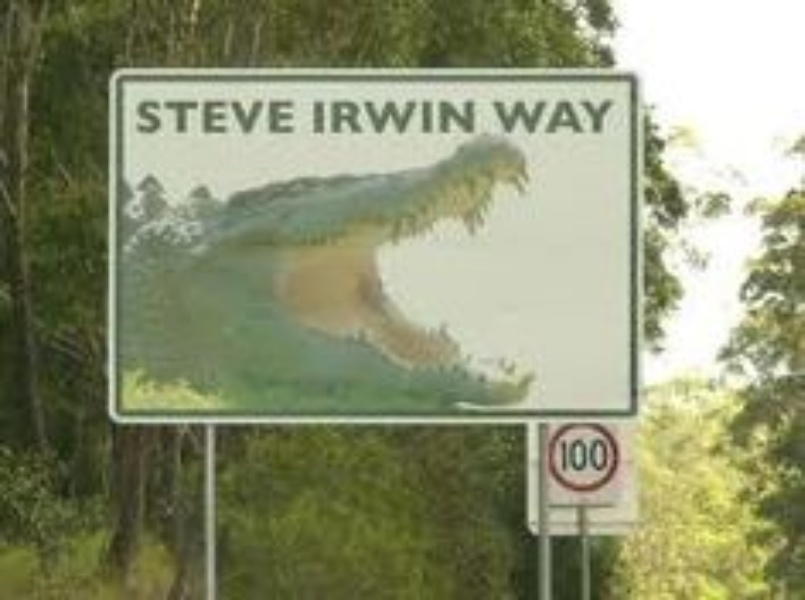text: (497, 96, 512, 133), (513, 96, 528, 133), (529, 96, 544, 133), (545, 96, 560, 133), (561, 96, 576, 133), (577, 96, 592, 133), (593, 96, 608, 133), (145, 99, 160, 133), (161, 99, 176, 133), (177, 99, 192, 133), (193, 99, 208, 133), (209, 99, 224, 133), (225, 99, 240, 133), (241, 99, 256, 133), (257, 99, 272, 133), (273, 99, 288, 133), (321, 99, 336, 133), (337, 99, 352, 133), (353, 99, 368, 133), (369, 99, 384, 133), (385, 99, 400, 133), (401, 99, 416, 133), (417, 99, 432, 133), (433, 99, 448, 133), (449, 99, 464, 133), (561, 437, 576, 471), (577, 437, 592, 471), (593, 437, 608, 471), (307, 99, 320, 133), (465, 99, 478, 133), (289, 99, 301, 133), (609, 96, 618, 133), (137, 99, 144, 133), (492, 96, 496, 133), (609, 437, 611, 471)
